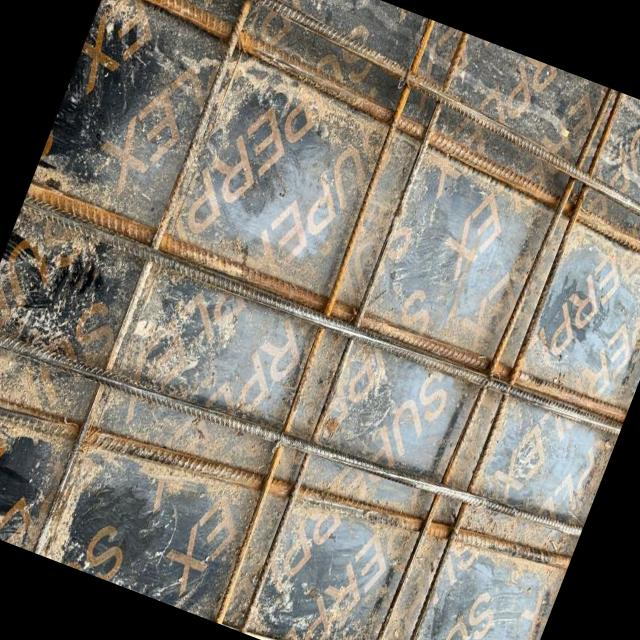ribbed bar: (0, 329, 571, 631), (19, 180, 628, 442), (0, 296, 584, 566), (198, 18, 452, 624), (83, 0, 640, 276), (233, 31, 475, 634), (358, 80, 615, 640), (94, 0, 640, 248), (31, 0, 269, 554), (389, 91, 627, 640)
